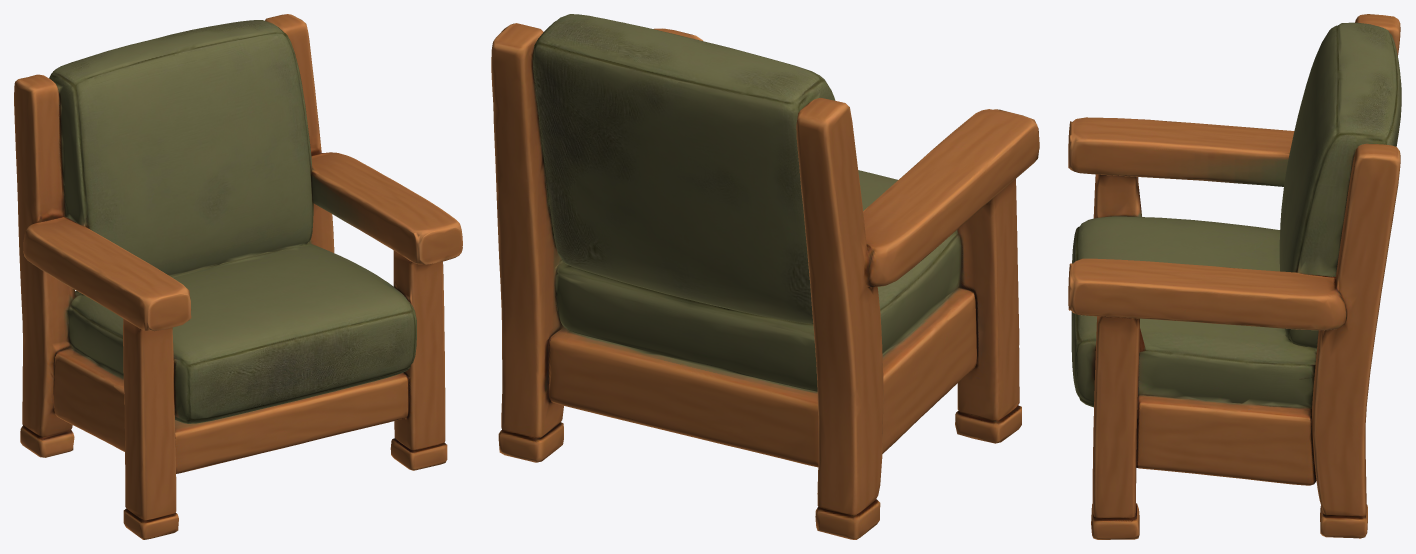
The model's file is chair.glb.
3 views of the same model, side by side, from view 1: azimuth 30°, elevation 25°; view 2: azimuth 150°, elevation 25°; view 3: azimuth 270°, elevation 25° (orthographic). The views are drawn at different scales.
Visible parts, largest first — view 1: tripo_node_b0f7b78d-e716-4959-9520-141b1eaf975b; view 2: tripo_node_b0f7b78d-e716-4959-9520-141b1eaf975b; view 3: tripo_node_b0f7b78d-e716-4959-9520-141b1eaf975b.
Boxes of the visible parts, x1,y1,x2,y2 form: tripo_node_b0f7b78d-e716-4959-9520-141b1eaf975b: (14,14,462,539); tripo_node_b0f7b78d-e716-4959-9520-141b1eaf975b: (491,14,1039,539); tripo_node_b0f7b78d-e716-4959-9520-141b1eaf975b: (1068,14,1401,539).
Size of the model in its own units: 0.9184 by 1 by 0.7687.
Materials: 1 (1 with a texture image).
